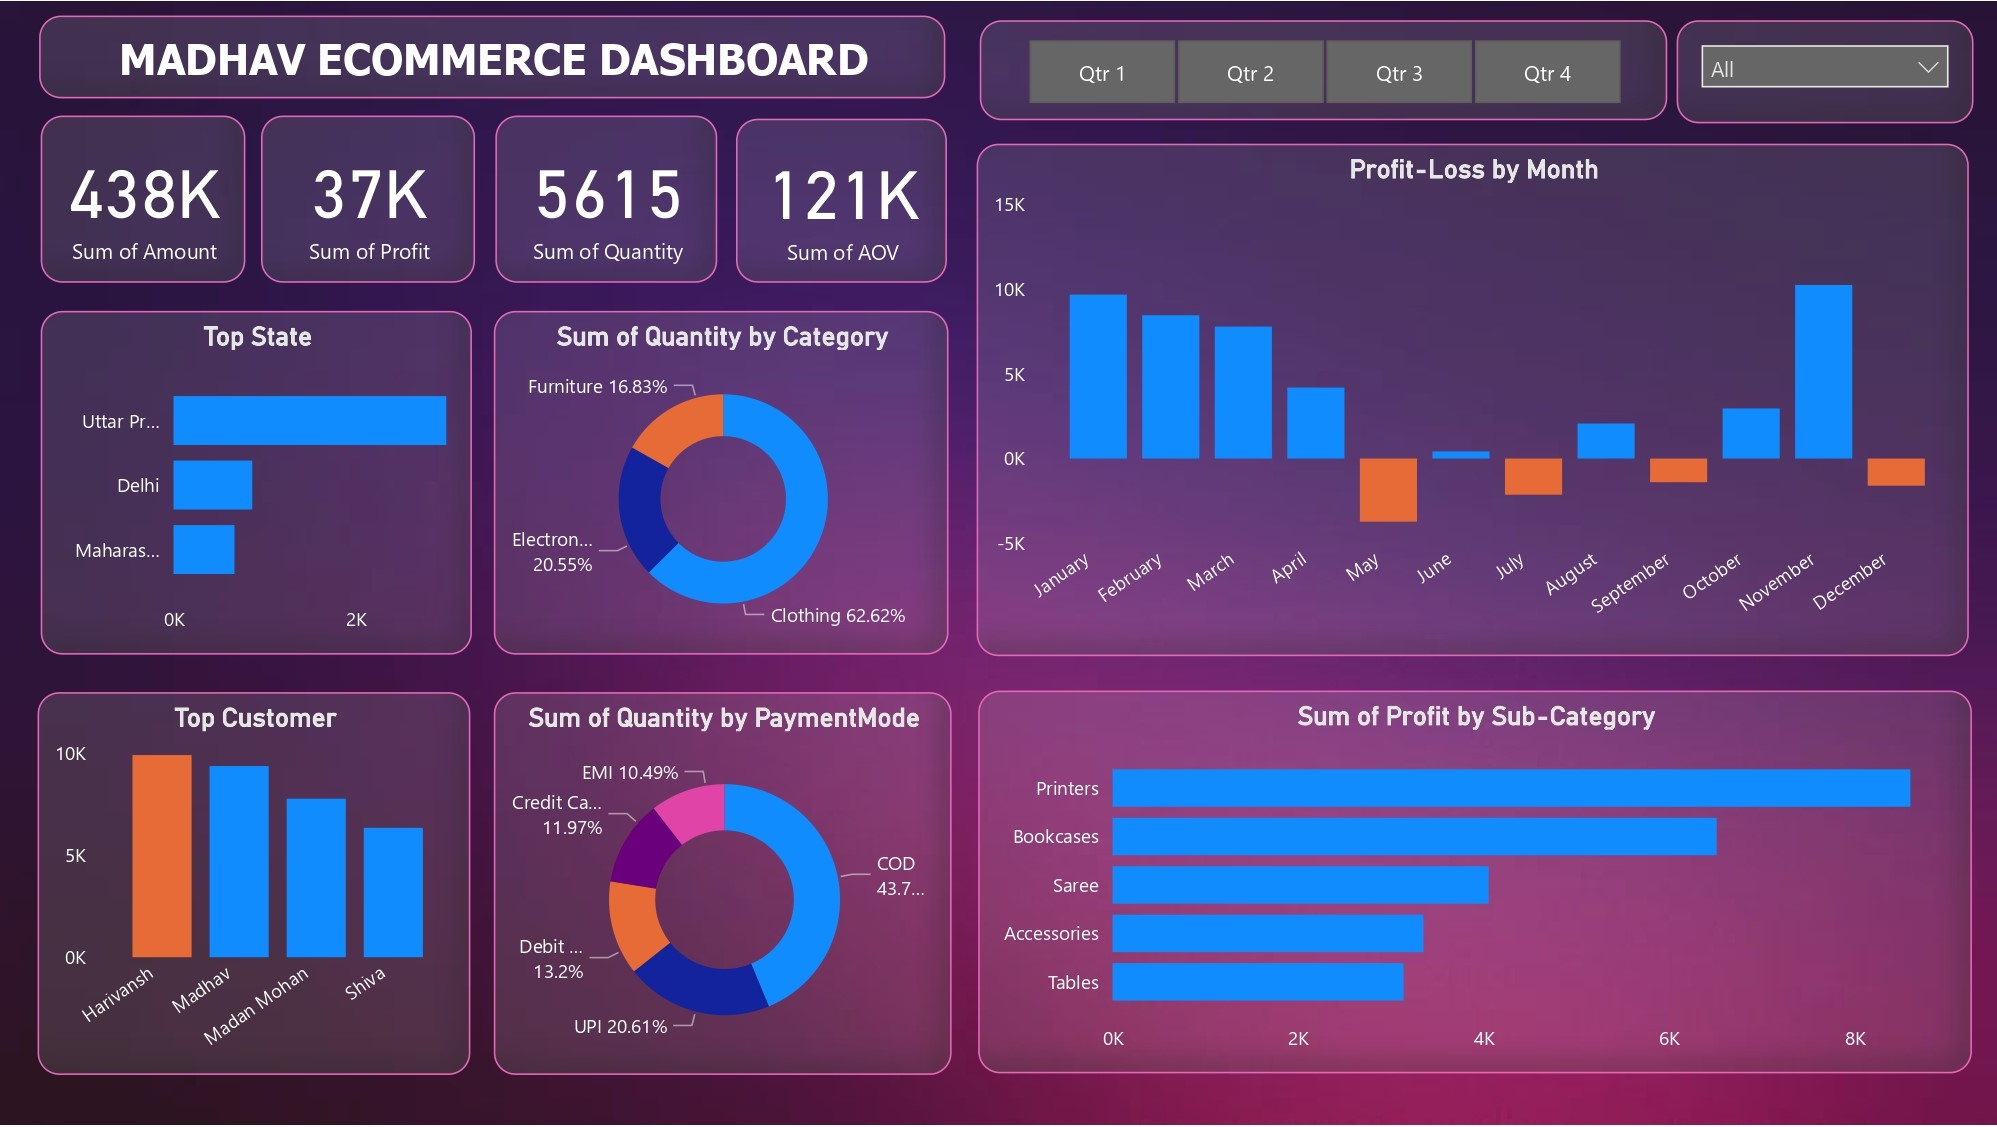

The dashboard page shown, as its layout file describes it:
{"tool":"powerbi","page":{"name":"Page 1","canvas":[1280,720],"ordinal":0},"visuals":[{"type":"textbox","box":[26.2,9.4,579.8,52.4],"z":0},{"type":"columnChart","title":"Profit-Loss by Month","fields":{"Category":["Orders.Order Date.Variation.Date Hierarchy.Month"],"Y":["Details.Profit"]},"box":[625.7,91.4,635.7,327.1],"z":1000},{"type":"donutChart","fields":{"Y":["Details.Quantity"],"Category":["Details.Category"]},"box":[316.7,198.3,291.7,220],"z":2000},{"type":"donutChart","fields":{"Y":["Details.Quantity"],"Category":["Details.PaymentMode"]},"box":[316.7,441.7,293.3,245],"z":3000},{"type":"barChart","fields":{"Category":["Details.Sub-Category"],"Y":["Details.Profit"]},"box":[627.1,441.4,635.7,244.3],"z":4000},{"type":"columnChart","title":"Top Customer","fields":{"Category":["Orders.CustomerName"],"Y":["Details.Amount"]},"box":[25,441.7,276.7,245],"z":5000},{"type":"barChart","title":"Top State","fields":{"Category":["Orders.State"],"Y":["Details.Profit"]},"box":[26.7,198.3,276.7,220],"z":6000},{"type":"card","fields":{"Values":["Details.Amount"]},"box":[26.7,73.3,131.7,106.7],"z":7000},{"type":"card","fields":{"Values":["Details.Profit"]},"box":[168.3,73.3,136.7,106.7],"z":8000},{"type":"card","fields":{"Values":["Details.Quantity"]},"box":[318.3,73.3,141.7,106.7],"z":9000},{"type":"card","fields":{"Values":["Details.AOV"]},"box":[471.7,75,135,105],"z":10000},{"type":"slicer","fields":{"Values":["Orders.Order Date.Variation.Date Hierarchy.Quarter"]},"box":[628,12,440,64],"z":11000},{"type":"slicer","fields":{"Values":["Orders.State"]},"box":[1074,12,190,66],"z":12000}]}

Visuals, with their boxes in screenshot pixels (x1, y1, x2, y2), scaled from the page's 1280x720 canvas onto the 1997x1127 screenshot:
textbox: Rect(41, 15, 945, 97)
"Profit-Loss by Month" columnChart: Rect(976, 143, 1968, 655)
donutChart - Details.Quantity x Details.Category: Rect(494, 310, 949, 655)
donutChart - Details.Quantity x Details.PaymentMode: Rect(494, 691, 952, 1075)
barChart - Details.Sub-Category x Details.Profit: Rect(978, 691, 1970, 1073)
"Top Customer" columnChart: Rect(39, 691, 471, 1075)
"Top State" barChart: Rect(42, 310, 473, 655)
card - Details.Amount: Rect(42, 115, 247, 282)
card - Details.Profit: Rect(263, 115, 476, 282)
card - Details.Quantity: Rect(497, 115, 718, 282)
card - Details.AOV: Rect(736, 117, 947, 282)
slicer - Orders.Order Date.Variation.Date Hierarchy.Quarter: Rect(980, 19, 1666, 119)
slicer - Orders.State: Rect(1676, 19, 1972, 122)
